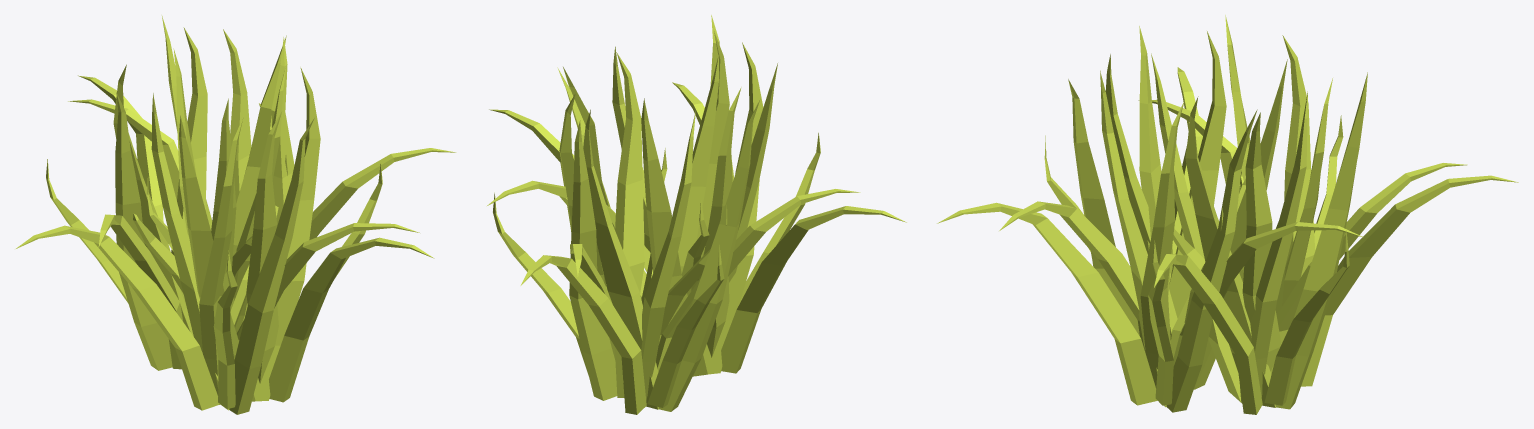
The model's file is Grass2.fbx.
The picture shows the model from 3 angles, left to right: view 1: azimuth 30°, elevation 25°; view 2: azimuth 150°, elevation 25°; view 3: azimuth 270°, elevation 25°; orthographic projection. The views are drawn at different scales.
Parts seen in each view (by area): view 1: Grass; view 2: Grass; view 3: Grass.
Boxes of the visible parts, bbox=[...] form: Grass: bbox=[16, 16, 456, 414]; Grass: bbox=[487, 15, 906, 414]; Grass: bbox=[937, 15, 1518, 414].
Bounding box in the file's own units: 78.83 × 54.08 × 87.66.
